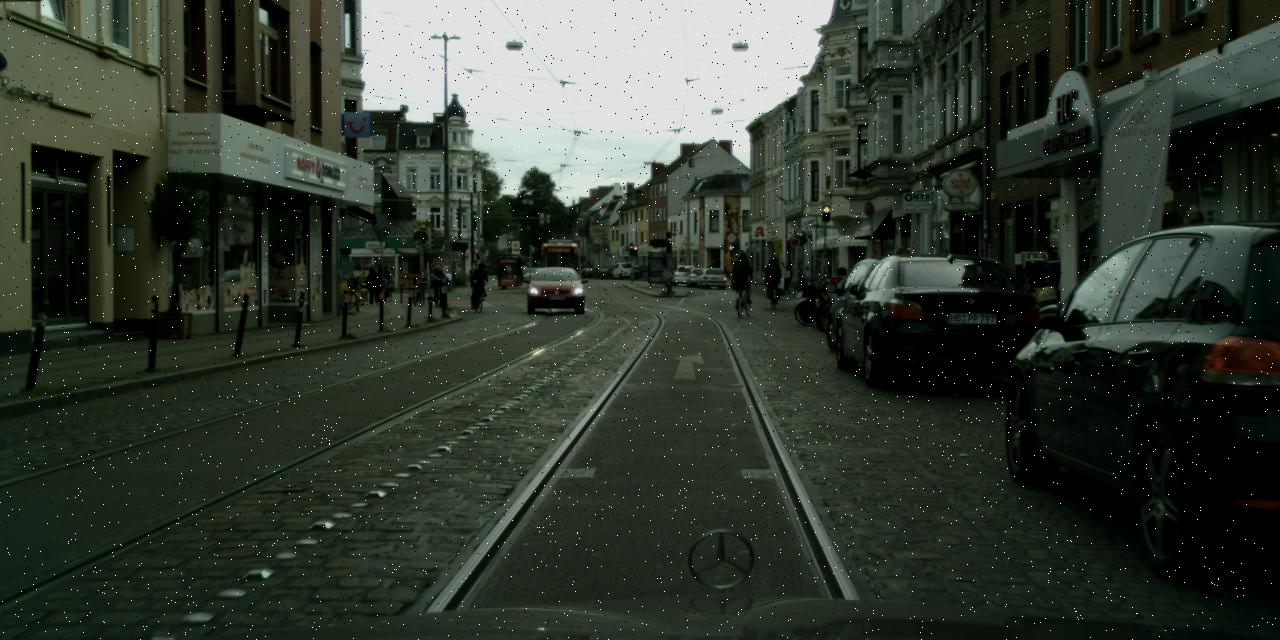ped: (1154, 205, 1236, 406), (883, 246, 919, 336), (730, 251, 751, 305), (764, 257, 781, 299), (365, 266, 381, 304), (472, 262, 487, 300), (779, 261, 792, 295), (430, 265, 442, 294), (380, 266, 391, 294), (375, 265, 385, 290)
